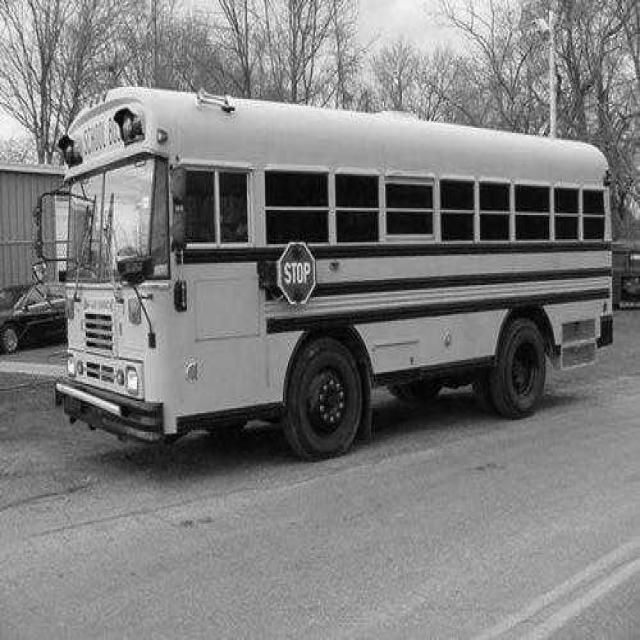Bus: (55, 86, 614, 458)
